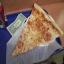pizza: (12, 1, 61, 56)
